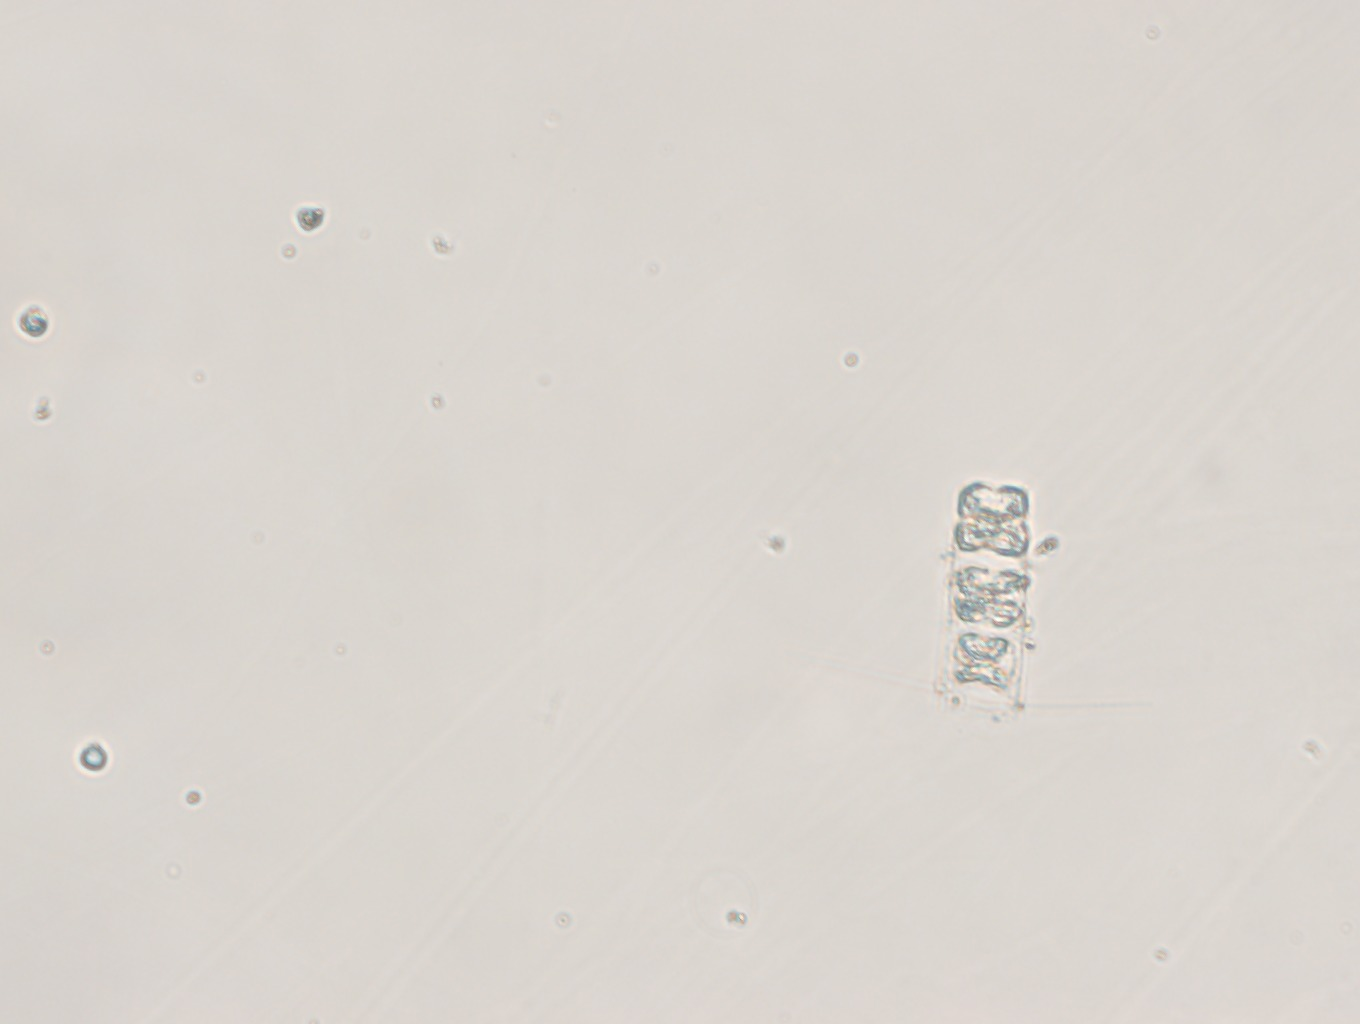detonula pumila: (930, 481, 1043, 735)
